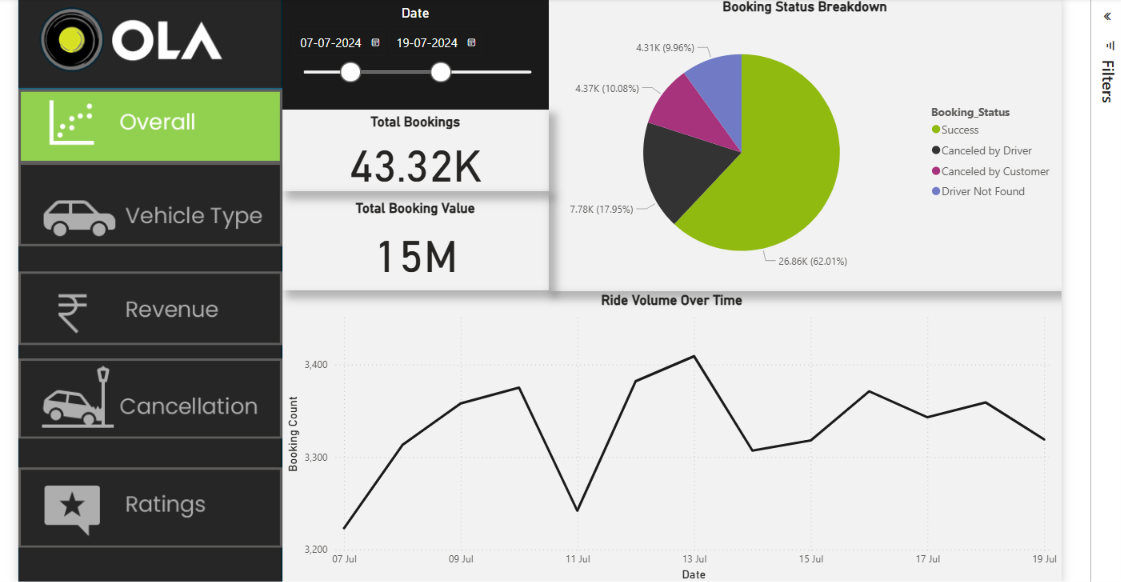

The page's visual inventory and layout, read from the dashboard file:
{"tool":"powerbi","page":{"name":"Overall","canvas":[1280,720],"ordinal":0},"visuals":[{"type":"actionButton","box":[0,111.1,323.8,90.6],"z":0},{"type":"actionButton","box":[0,201.7,323.8,102.9],"z":1000},{"type":"actionButton","box":[0,334.8,323.8,90.6],"z":2000},{"type":"actionButton","box":[0,441.9,323.8,98.8],"z":3000},{"type":"actionButton","box":[0,575,323.8,98.8],"z":4000},{"type":"lineChart","title":"Ride Volume Over Time","fields":{"Category":["July.Date"],"Y":["CountNonNull(July.Booking_ID)"]},"box":[323.9,359.5,955.8,360.7],"z":5000},{"type":"pieChart","title":"Booking Status Breakdown","fields":{"Category":["July.Booking_Status"],"Y":["CountNonNull(July.Booking_Status)"]},"box":[650.3,0,629.5,359.5],"z":6000},{"type":"slicer","title":"Date","fields":{"Values":["July.Date"]},"box":[323.9,0,326.4,136.2],"z":7000},{"type":"card","title":"Total Bookings","fields":{"Values":["Count(July.Booking_ID)"]},"box":[323.9,136.2,326.4,100.6],"z":8000},{"type":"card","title":"Total Booking Value","fields":{"Values":["Sum(July.Booking_Value)"]},"box":[323.9,236.8,326.4,121.5],"z":9000}]}

Visuals, with their boxes on the page's 1280x720 design canvas (x1, y1, x2, y2). These are canvas units, not pixel positions in the 1121x582 screenshot, which may show the page scaled, cropped or inside an application window:
actionButton: pyautogui.locateOnScreen(0, 111, 324, 202)
actionButton: pyautogui.locateOnScreen(0, 202, 324, 305)
actionButton: pyautogui.locateOnScreen(0, 335, 324, 425)
actionButton: pyautogui.locateOnScreen(0, 442, 324, 541)
actionButton: pyautogui.locateOnScreen(0, 575, 324, 674)
"Ride Volume Over Time" lineChart: pyautogui.locateOnScreen(324, 360, 1280, 720)
"Booking Status Breakdown" pieChart: pyautogui.locateOnScreen(650, 0, 1280, 360)
"Date" slicer: pyautogui.locateOnScreen(324, 0, 650, 136)
"Total Bookings" card: pyautogui.locateOnScreen(324, 136, 650, 237)
"Total Booking Value" card: pyautogui.locateOnScreen(324, 237, 650, 358)
